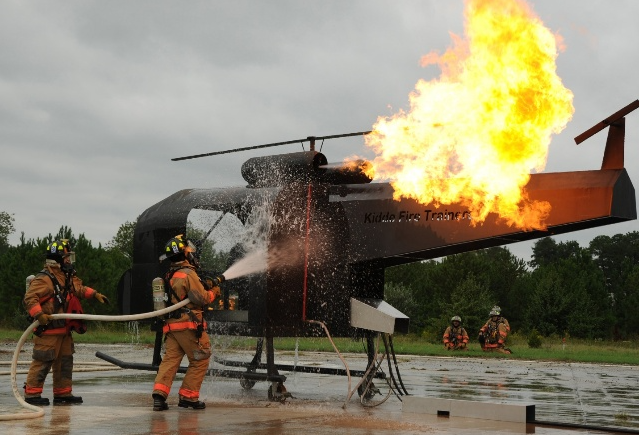喷灌水雾: (169, 156, 380, 393)
